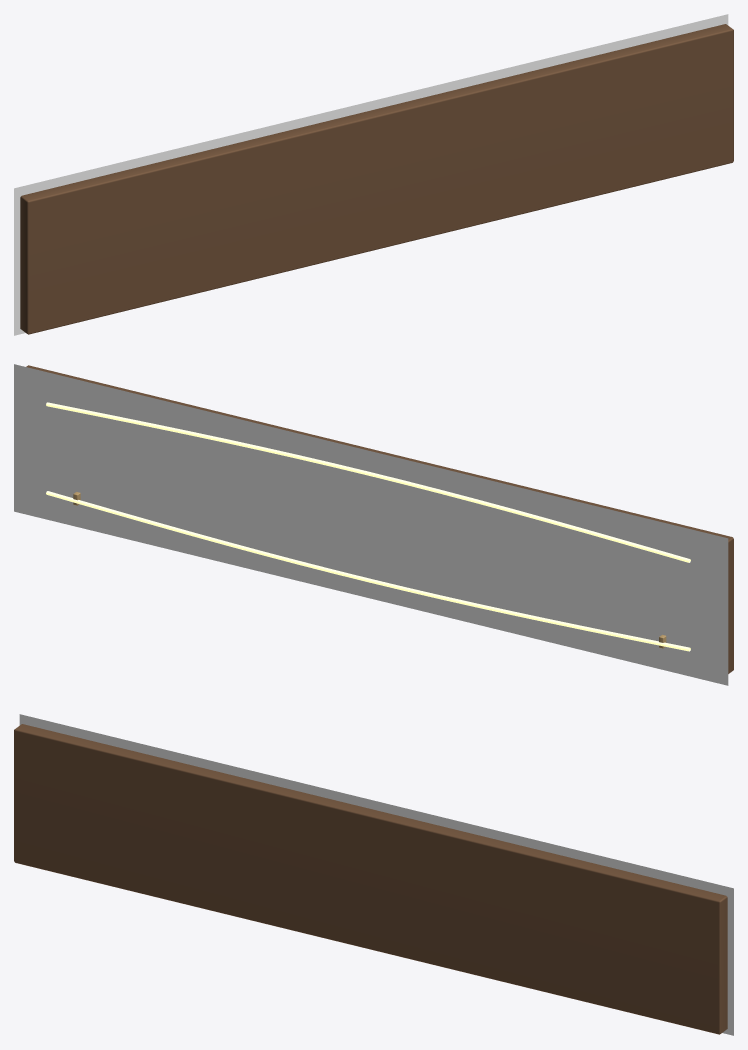
File: club-decor-front.glb
3 views of the same model, one above another, from view 1: azimuth 30°, elevation 25°; view 2: azimuth 150°, elevation 25°; view 3: azimuth 330°, elevation 25° (orthographic).
Parts seen in each view (by area): view 1: club-decor-front.001; view 2: club-decor-front.001; view 3: club-decor-front.001.
Boxes of the visible parts, x1,y1,x2,y2 form: club-decor-front.001: [14, 14, 733, 335]; club-decor-front.001: [14, 364, 733, 685]; club-decor-front.001: [14, 714, 733, 1035].
Size of the model in its own units: 3.7 by 0.73 by 0.1235.
4 materials, 1 textured.
